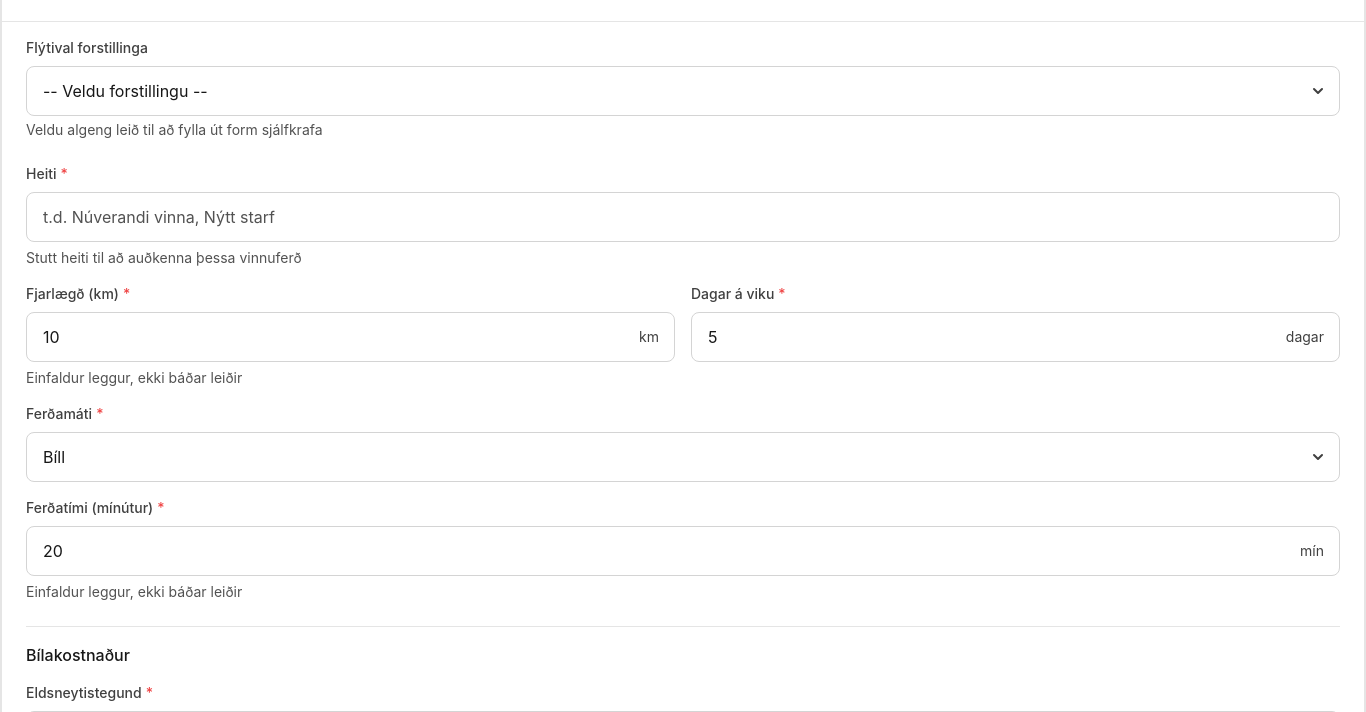
Test case: CommuteForm › Conditional Fields › should show transit fields when transit is selected
Step 1. Select "Almenningssamgöngur" in the dropdown labelled "Ferðamáti*" → {"x": 683, "y": 457}, box [26,432,1340,482]
(page scrolled)
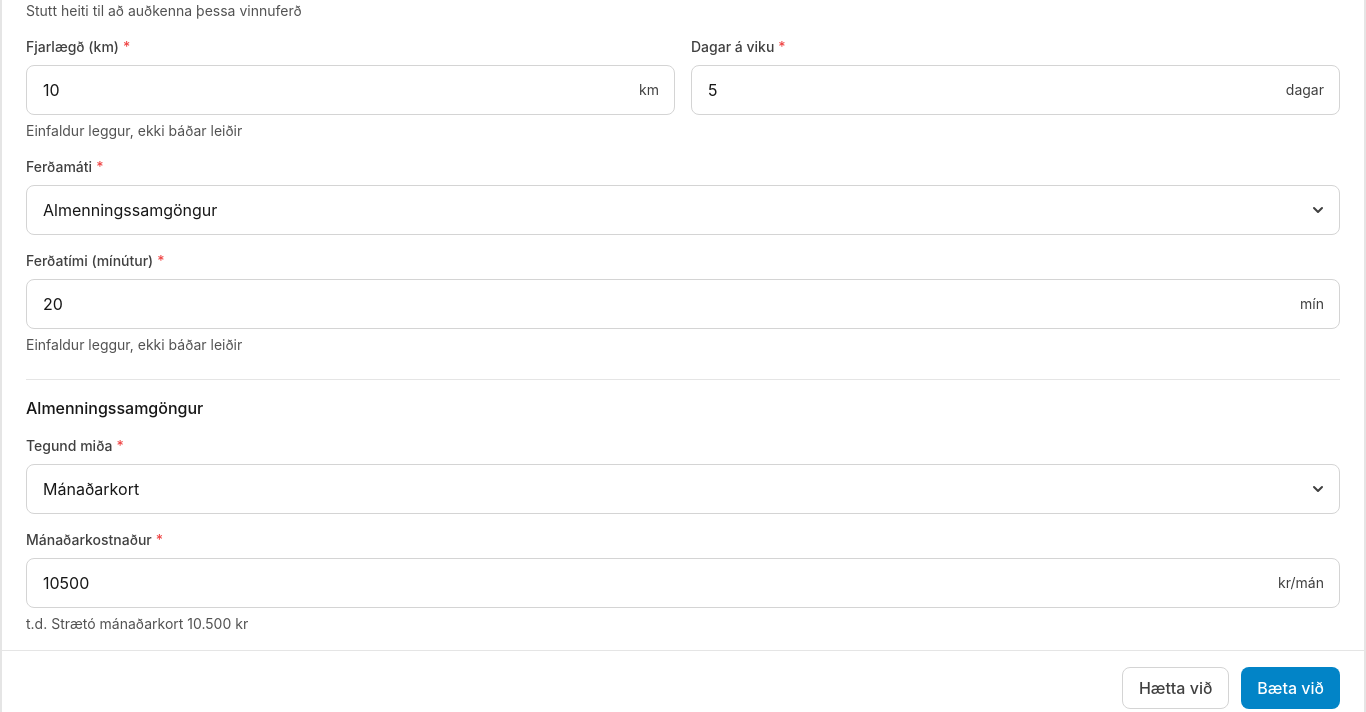
Expected: the dropdown labelled "Tegund miða*" is shown, [26,464,1340,514]
